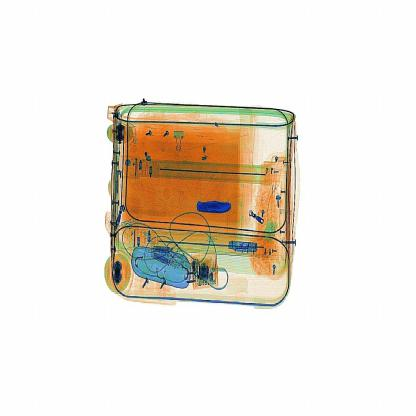knife: (194, 195, 236, 220)
